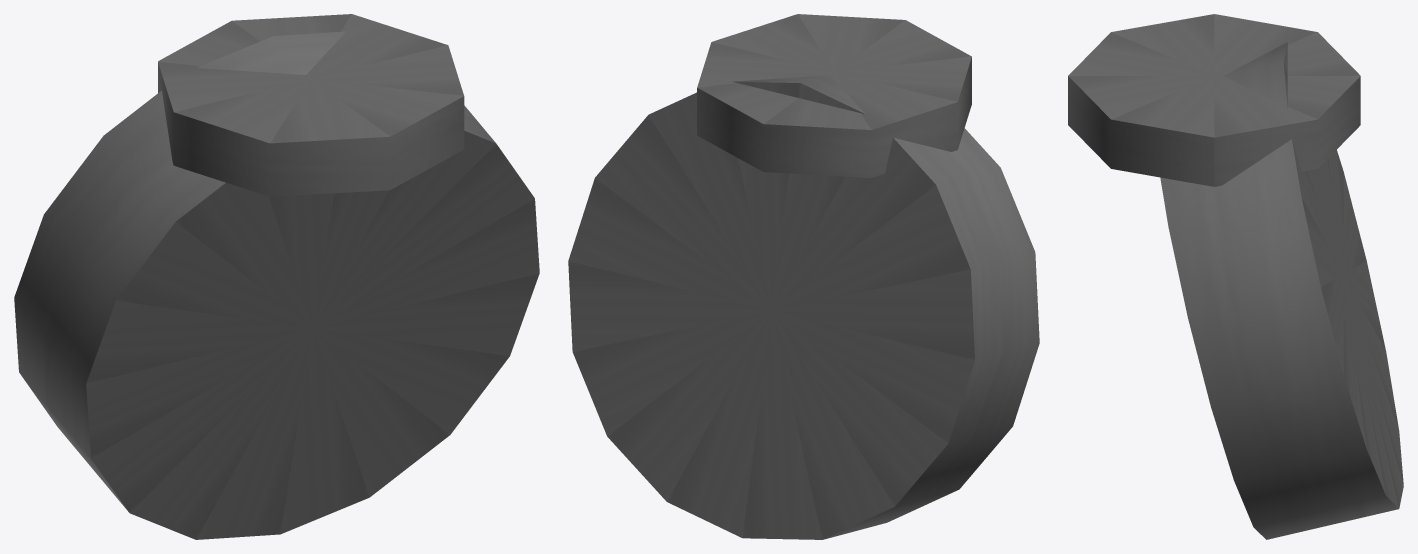
Rendered from mastarmcurve_10x2_c4_up.obj.
3 renders of one model, left to right at view 1: azimuth 30°, elevation 25°; view 2: azimuth 150°, elevation 25°; view 3: azimuth 270°, elevation 25°, orthographic. The views are drawn at different scales.
Visible parts, largest first — view 1: mastarm_10x2_c4_up; view 2: mastarm_10x2_c4_up; view 3: mastarm_10x2_c4_up.
Boxes of the visible parts, <box> form: mastarm_10x2_c4_up: <box>14,14,539,539</box>; mastarm_10x2_c4_up: <box>568,14,1039,539</box>; mastarm_10x2_c4_up: <box>1068,14,1403,539</box>.
Size of the model in its own units: 0.6606 by 0.6865 by 0.4588.
